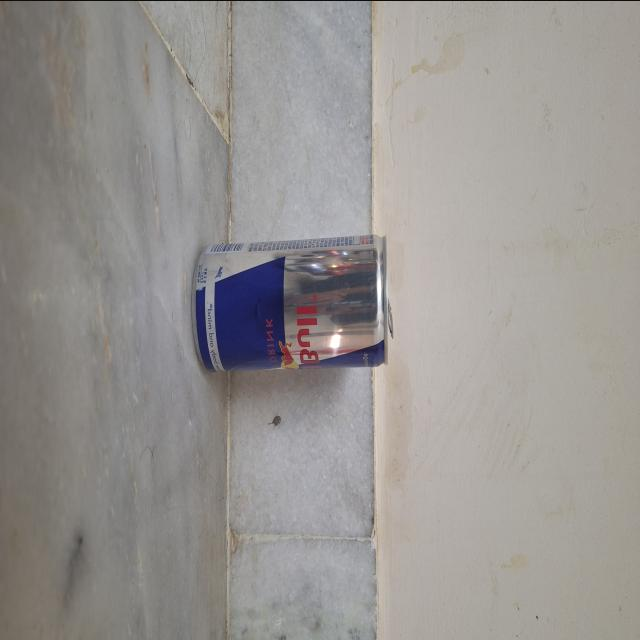Redbul: (195, 222, 394, 384)
